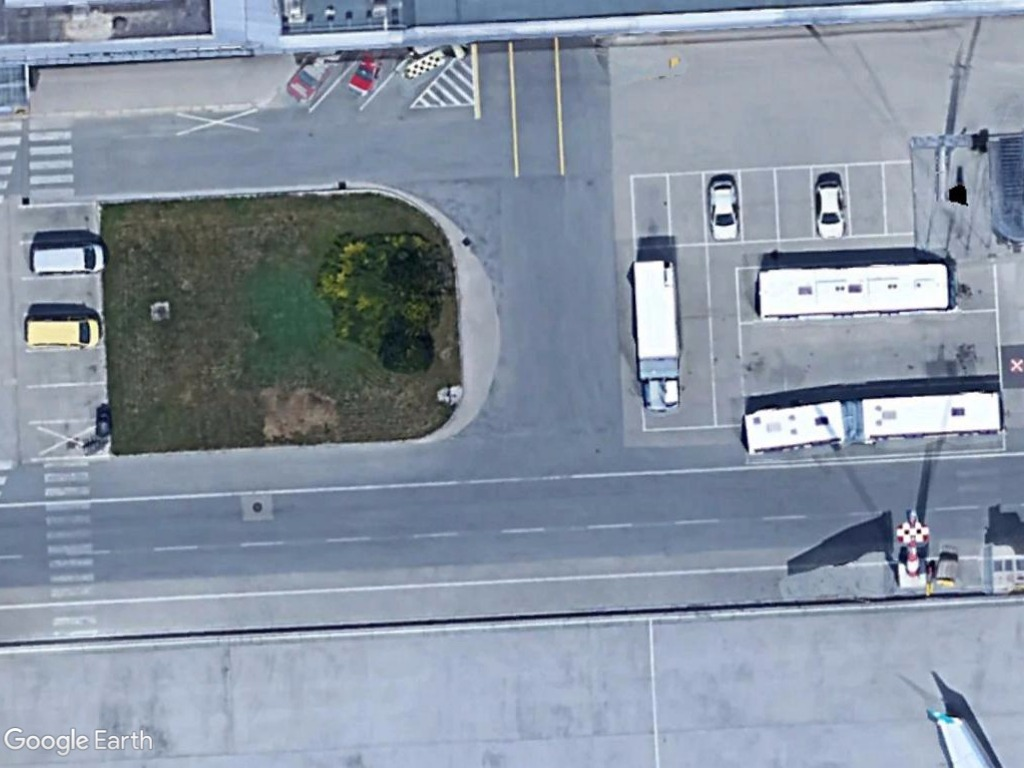bus: (735, 386, 1009, 461), (748, 256, 959, 323)
car: (704, 170, 747, 247), (810, 173, 851, 245)
truck: (628, 255, 686, 418)
van: (25, 233, 110, 282), (20, 309, 108, 351)
